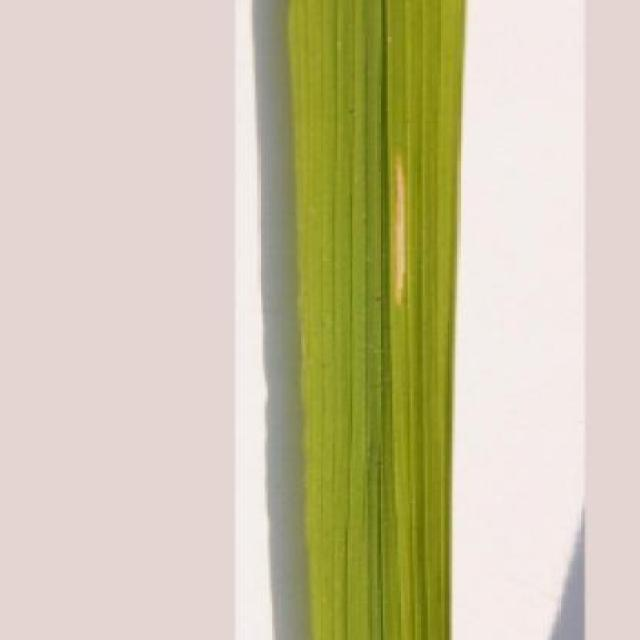Brown_Spot: (285, 0, 466, 640)
